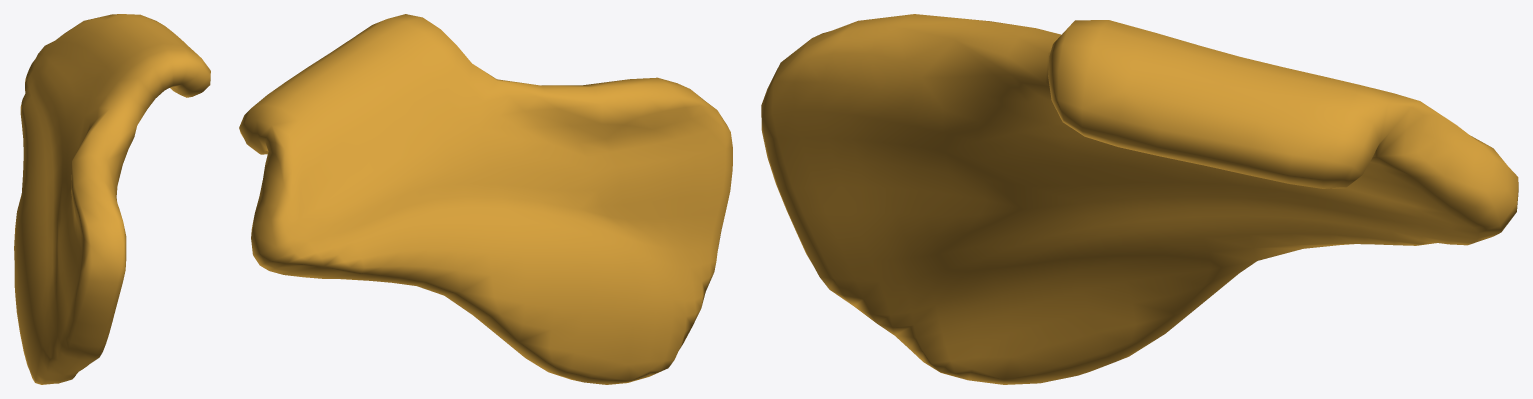
The picture shows the model from 3 angles, left to right: view 1: azimuth 30°, elevation 25°; view 2: azimuth 150°, elevation 25°; view 3: azimuth 270°, elevation 25°; orthographic projection. The views are drawn at different scales.
Parts seen in each view (by area): view 1: 右侧腮腺; view 2: 右侧腮腺; view 3: 右侧腮腺.
Boxes of the visible parts, x1,y1,x2,y2 form: 右侧腮腺: (14,14,210,384); 右侧腮腺: (239,14,732,384); 右侧腮腺: (761,14,1518,384).
Size of the model in its own units: 0.0462 by 0.0487 by 0.0702.
